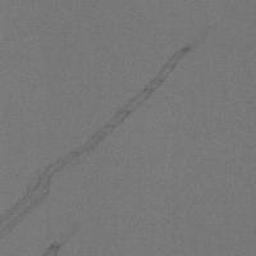Water spot: (0, 34, 204, 238), (42, 242, 61, 256)
